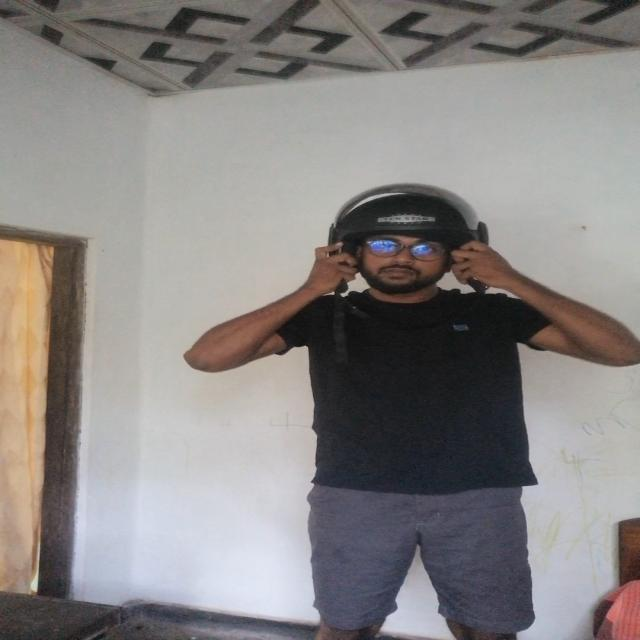Helmet_Wearer: (317, 180, 516, 308)
Person: (189, 208, 640, 639)
